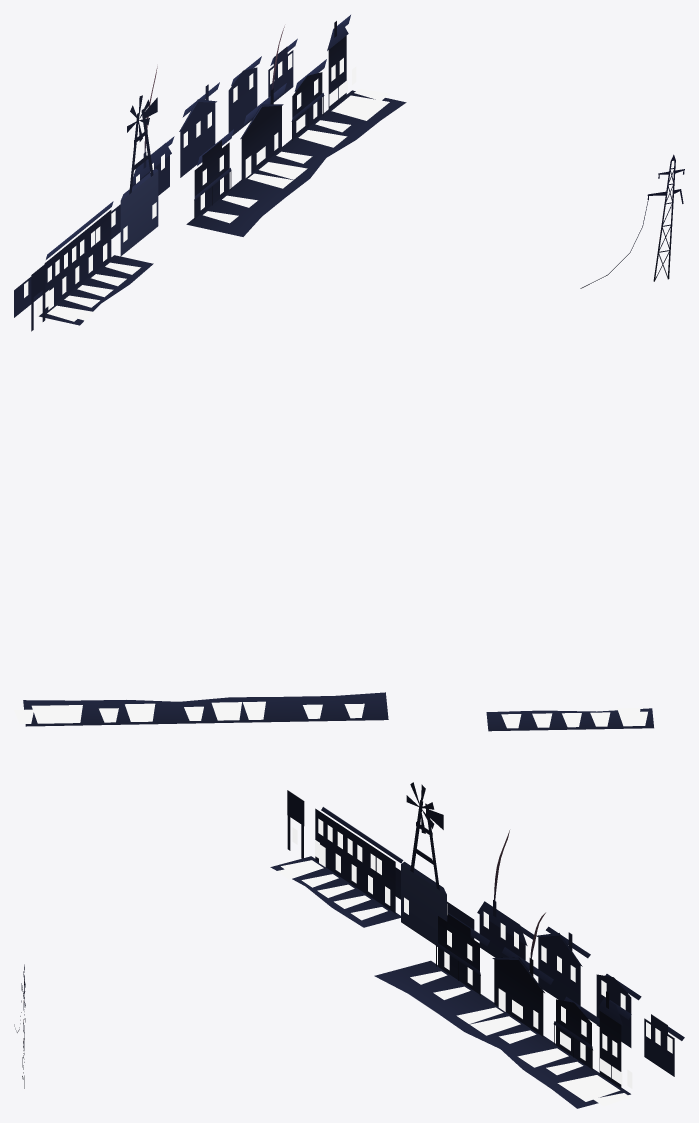
Rendered from rim_town_card.glb.
3 views of the same model, one above another, from view 1: azimuth 30°, elevation 25°; view 2: azimuth 150°, elevation 25°; view 3: azimuth 270°, elevation 25° (orthographic). The views are drawn at different scales.
Parts seen in each view (by area): view 1: town_silhouette, town_windows; view 2: town_silhouette, town_windows; view 3: town_silhouette, town_windows.
Boxes of the visible parts, bbox=[...] form: town_silhouette: bbox=[14, 15, 684, 331]; town_windows: bbox=[24, 53, 389, 321]; town_silhouette: bbox=[23, 692, 653, 731]; town_windows: bbox=[14, 701, 647, 728]; town_silhouette: bbox=[14, 782, 684, 1108]; town_windows: bbox=[276, 818, 672, 1106].
Bounding box in the file's own units: 101 × 26.76 × 107.
